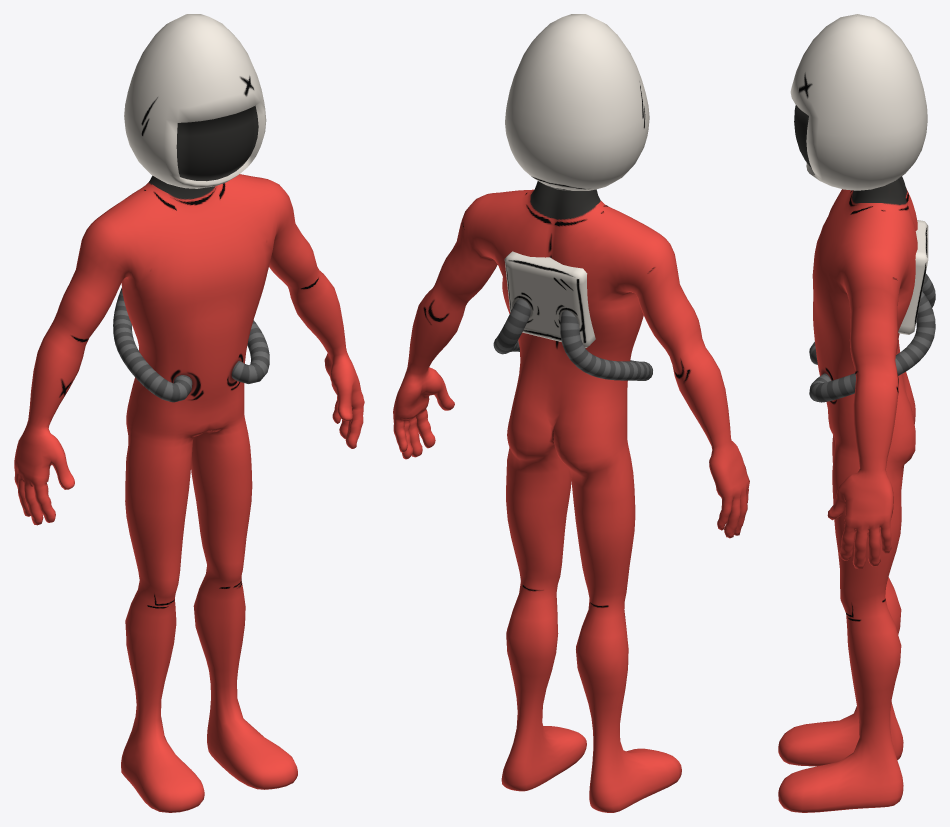
The model's file is AGGHEAD.fbx.
3 views of the same model, side by side, from view 1: azimuth 30°, elevation 25°; view 2: azimuth 150°, elevation 25°; view 3: azimuth 270°, elevation 25° (orthographic).
Parts seen in each view (by area): view 1: BodyMan, head_EggMan; view 2: BodyMan, head_EggMan; view 3: BodyMan, head_EggMan.
Part boxes in pixels (left/top/right/bottom): BodyMan: left=14, top=174, right=364, bottom=812; head_EggMan: left=124, top=14, right=266, bottom=188; BodyMan: left=393, top=181, right=749, bottom=812; head_EggMan: left=505, top=14, right=649, bottom=190; BodyMan: left=778, top=176, right=935, bottom=812; head_EggMan: left=790, top=14, right=927, bottom=190.
Bounding box in the file's own units: 87.61 × 188 × 35.17.
